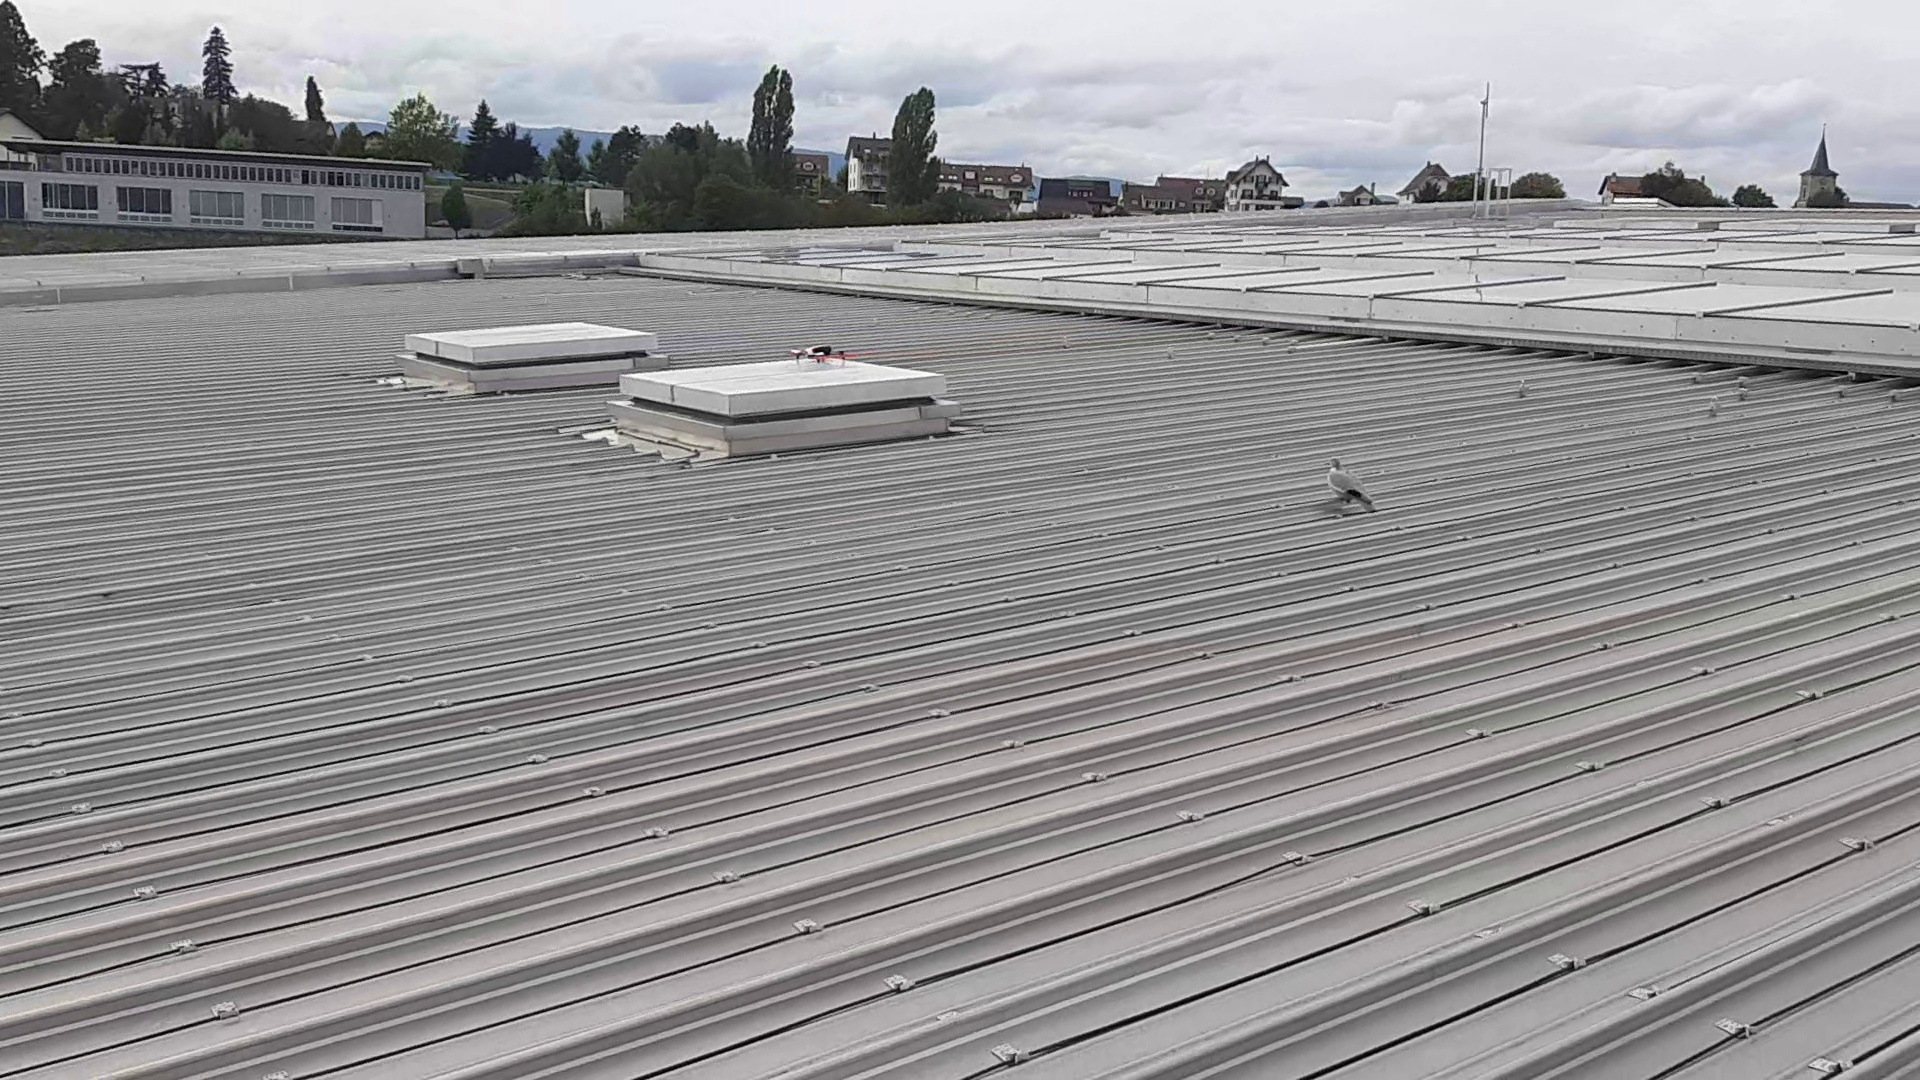Pigeon: (1317, 451, 1379, 518)
